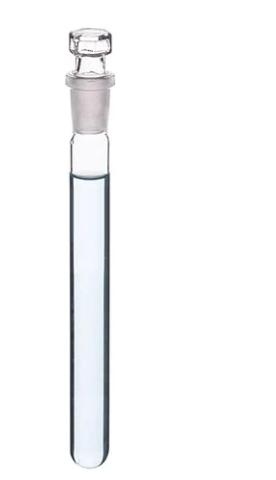Test tube: (57, 26, 118, 465)
